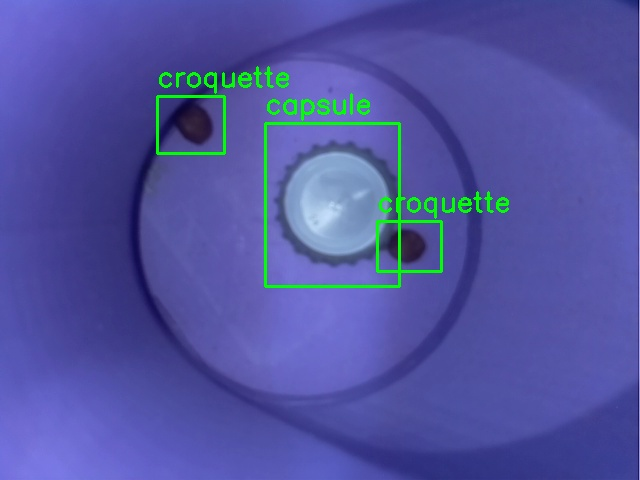capsule: (265, 123, 399, 286)
croquette: (157, 96, 224, 153), (377, 221, 441, 271)
